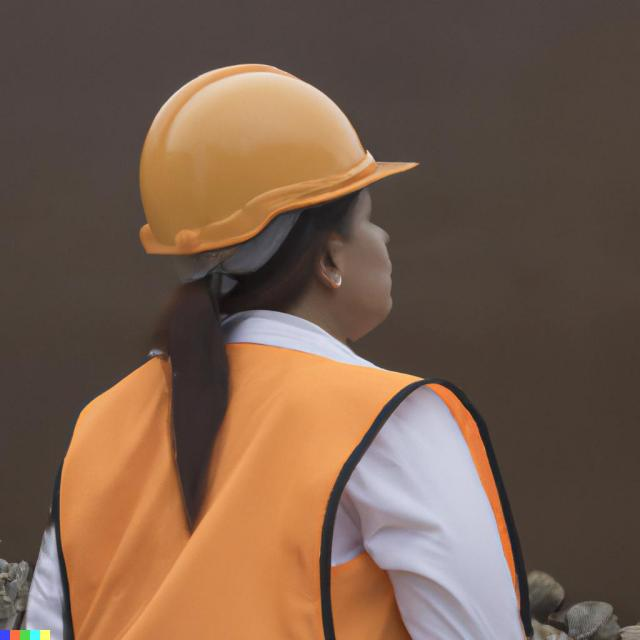Reflective-Jacket: (45, 343, 549, 640)
Safety-Helmet: (130, 62, 422, 256)
